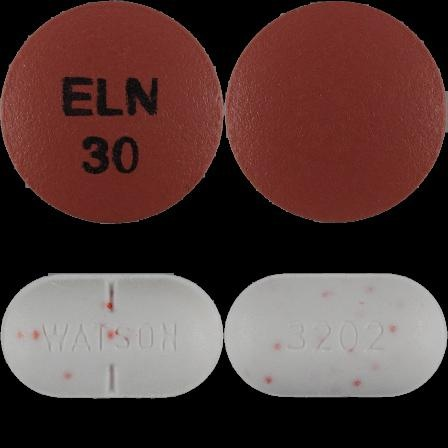0591-3193: (0, 0, 224, 224)
